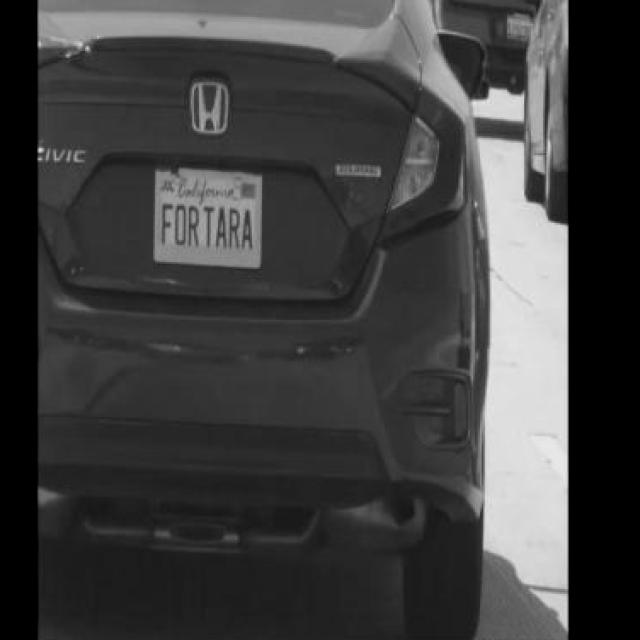licenseplate: (154, 166, 261, 260)
